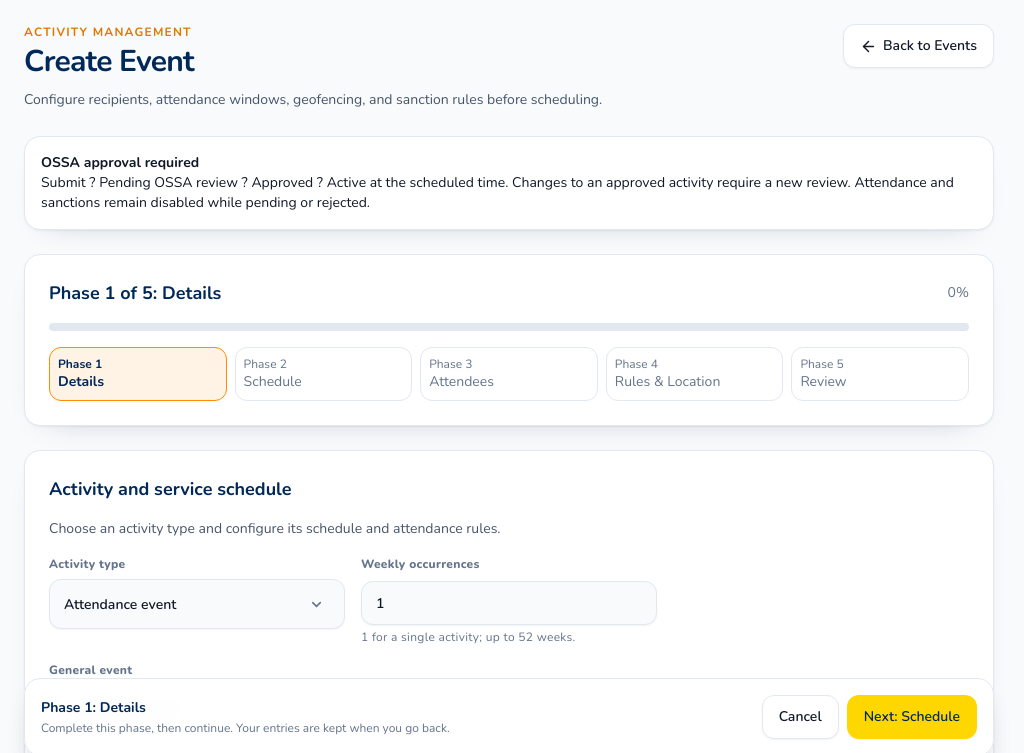
Test: lets SSG choose merit but reserves the service overflow toggle for OSAS
What coordinates should you click on to do the following:
click the button named "activity type"
I would click on:
 (120, 604)
Its box is [49,579,345,629].
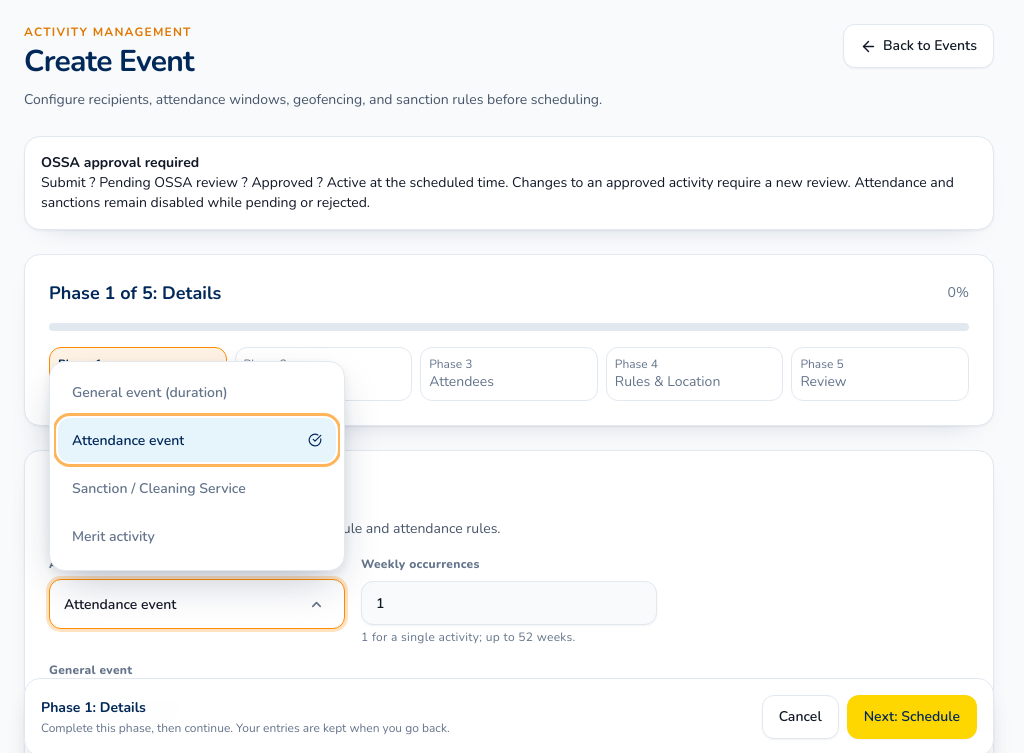
What coordinates should you click on to do the following:
click the option "Sanction / Cleaning Service"
I would click on:
 (197, 488)
Its box is [58,466,336,510].
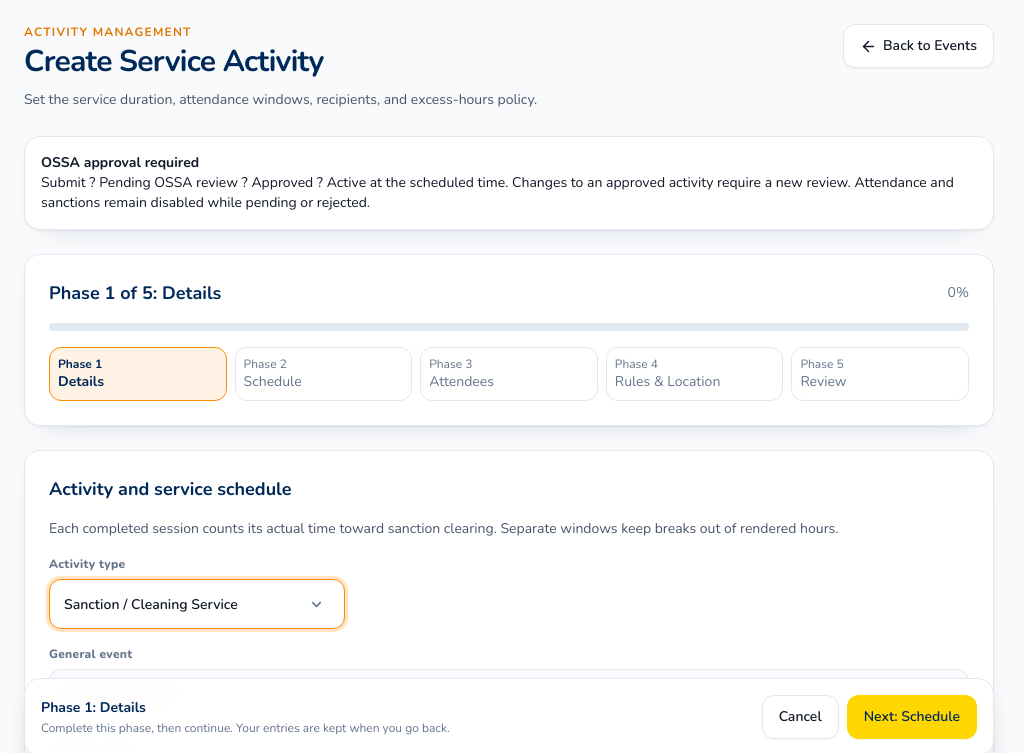
What coordinates should you click on to do the following:
click the button named "activity type"
I would click on:
 (197, 604)
Its box is [49,579,345,629].
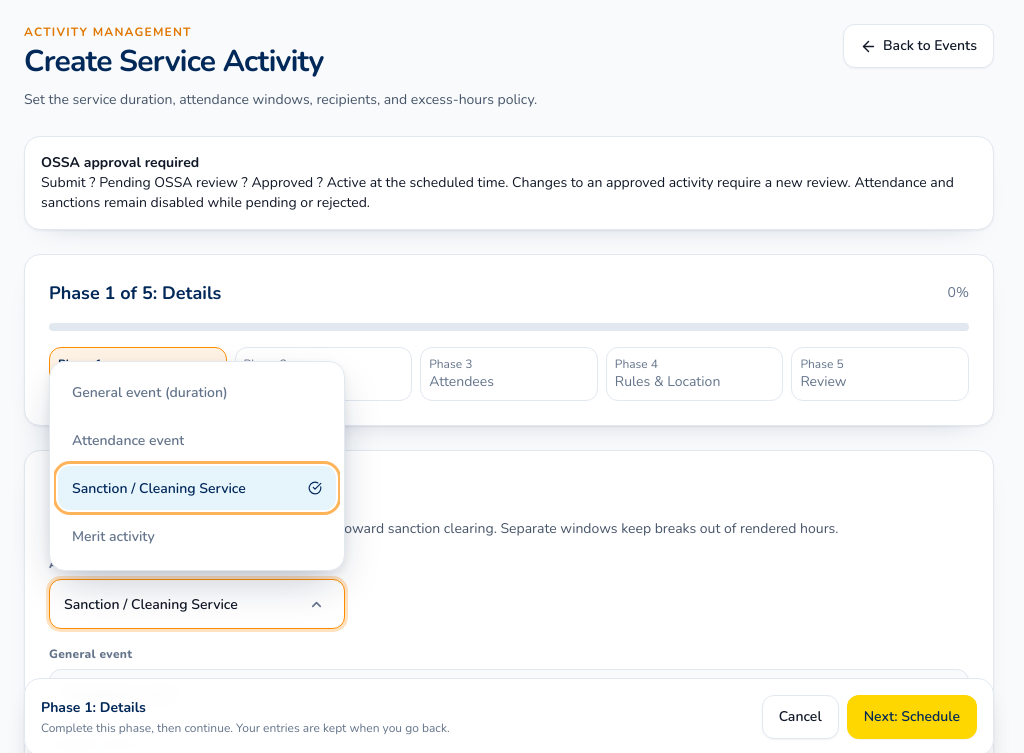
What coordinates should you click on to do the following:
click the option "Merit activity"
I would click on:
 (113, 536)
Its box is [58,514,336,558].
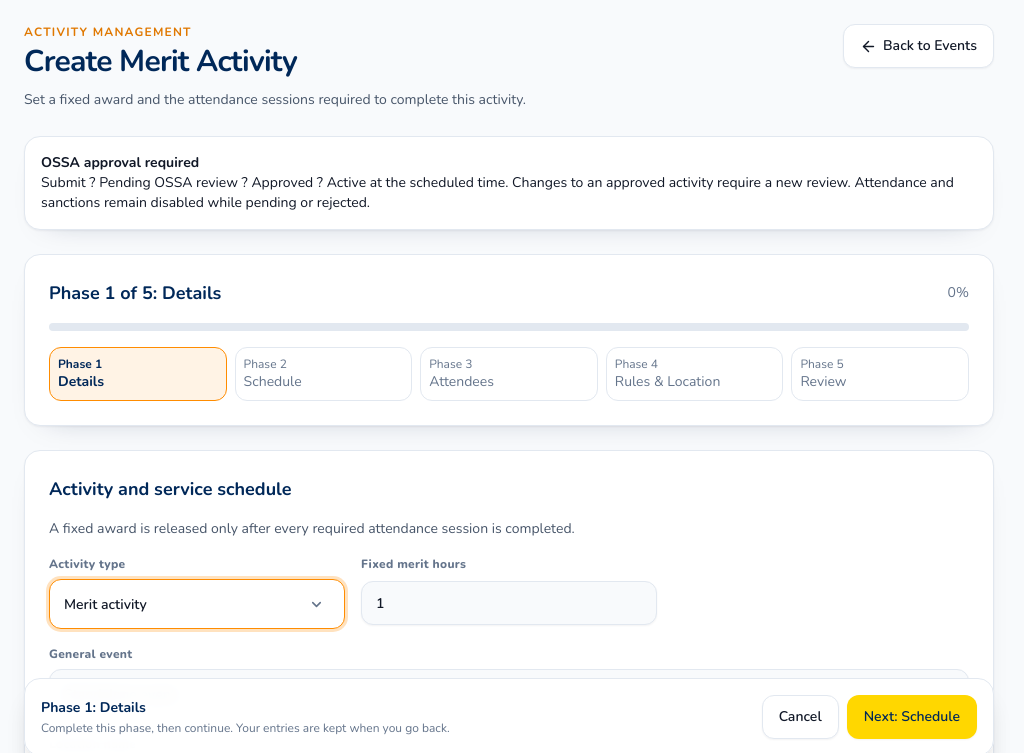
Expected: the number field labelled "Fixed merit hours" is shown, [361,581,657,625]
